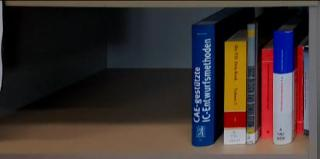book-spine: (191, 24, 215, 148), (272, 29, 293, 146), (224, 41, 247, 145), (247, 24, 256, 145), (261, 49, 273, 139), (297, 46, 304, 134), (304, 47, 309, 135)
